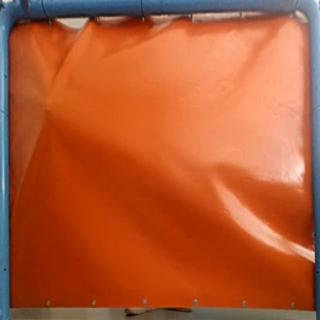Hit-hRxx: (37, 98, 55, 114)
